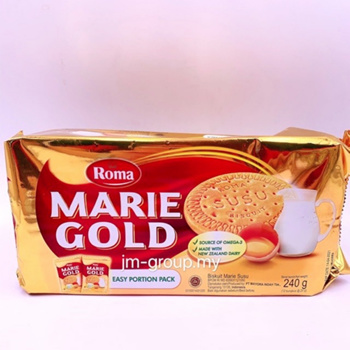Roma Marie Gold (240g): (2, 122, 342, 308)
